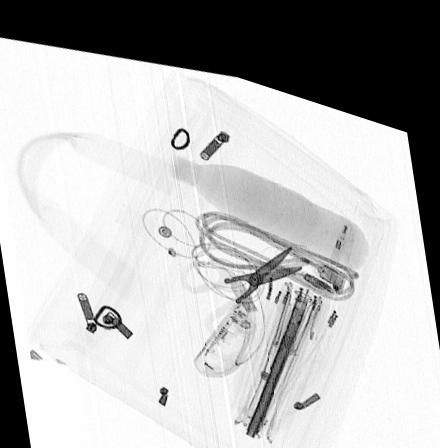Scissors: (177, 226, 305, 325)
